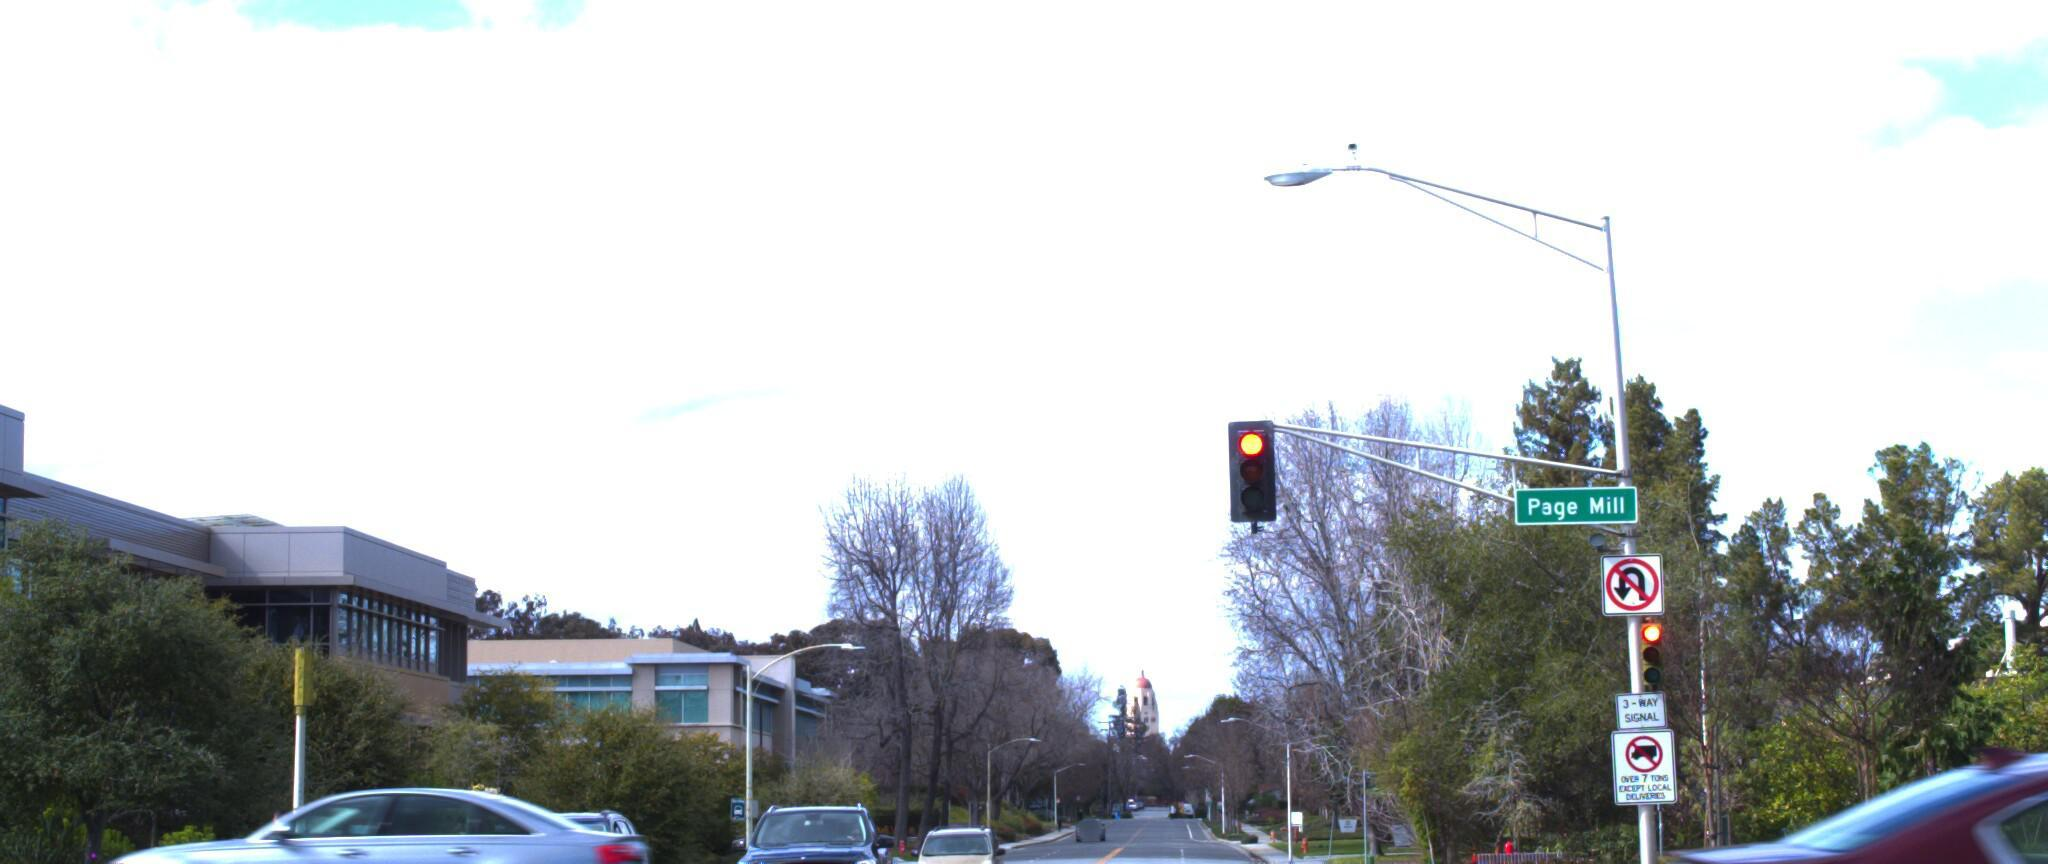car: (67, 778, 677, 864), (1583, 756, 2048, 864), (699, 809, 900, 864), (906, 834, 998, 864)
